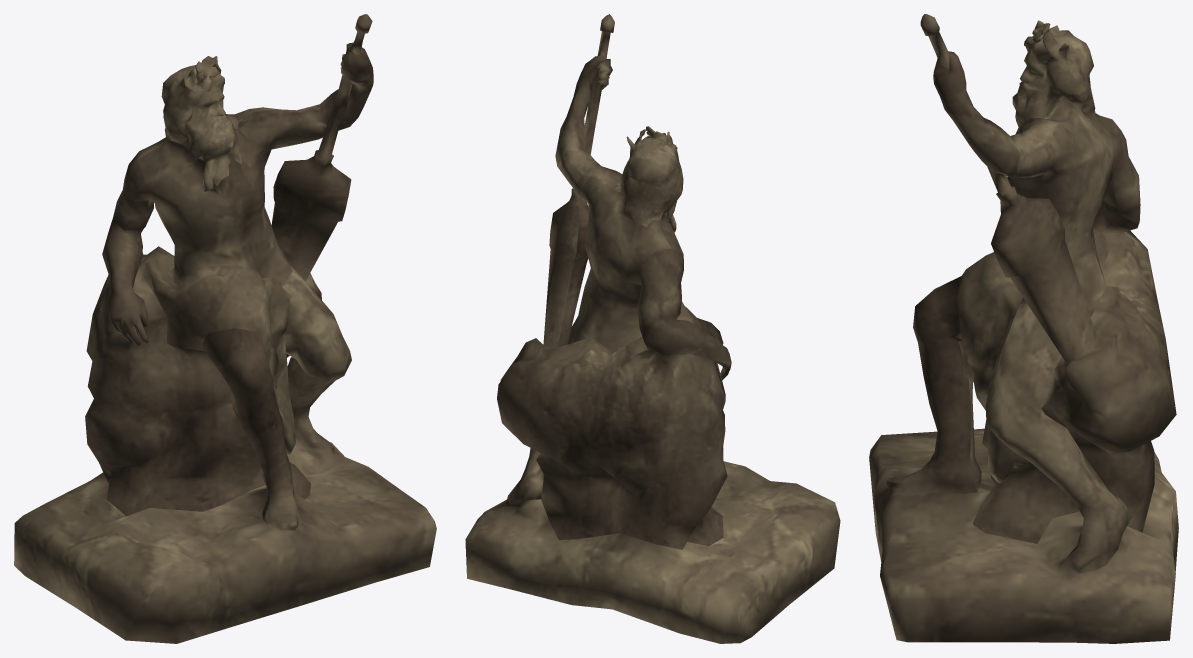
Rendered from Statue01_Build_LostTemple_004.FBX.
The picture shows the model from 3 angles, left to right: view 1: azimuth 30°, elevation 25°; view 2: azimuth 150°, elevation 25°; view 3: azimuth 270°, elevation 25°; orthographic projection. The views are drawn at different scales.
Parts seen in each view (by area): view 1: Statue01_Build_LostTemple_004; view 2: Statue01_Build_LostTemple_004; view 3: Statue01_Build_LostTemple_004.
Boxes of the visible parts, left/top/right/bottom form: Statue01_Build_LostTemple_004: left=14, top=14, right=436, bottom=643; Statue01_Build_LostTemple_004: left=465, top=14, right=840, bottom=643; Statue01_Build_LostTemple_004: left=869, top=14, right=1178, bottom=643.
Bounding box in the file's own units: 563 × 966 × 443.
1 material, 1 textured.
